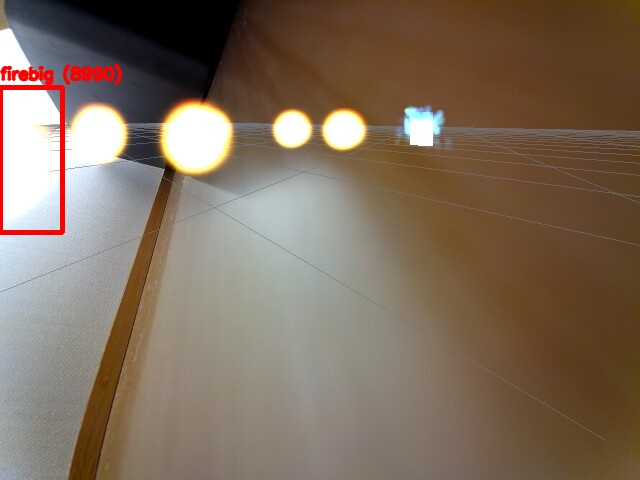firebig: (0, 87, 62, 232)
